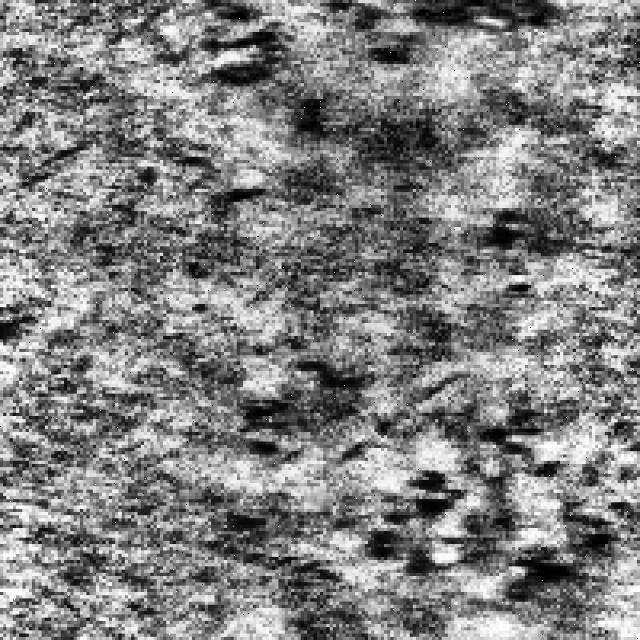Crazing: (259, 352, 634, 595), (202, 0, 560, 96)
